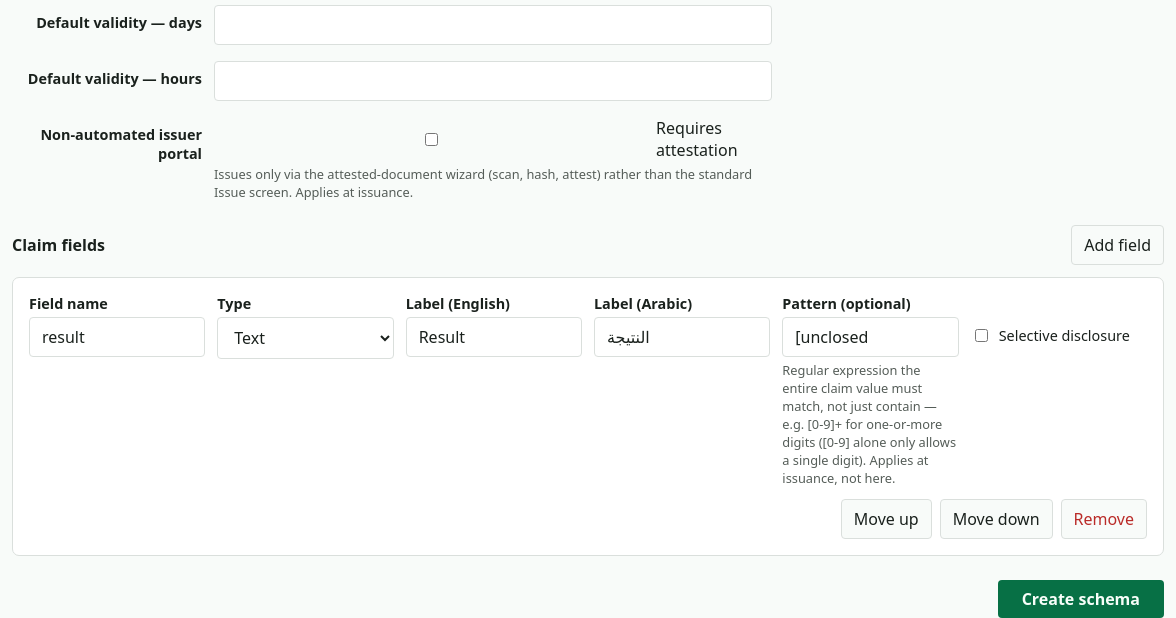
Test: SchemaBuilderForm › rejects an unparseable regex in a claim field pattern
(page scrolled)
What coordinates should you click on to do the following:
click the button "Create schema"
I would click on:
 (1081, 599)
Its box is [998,580,1164,617].
(page scrolled)
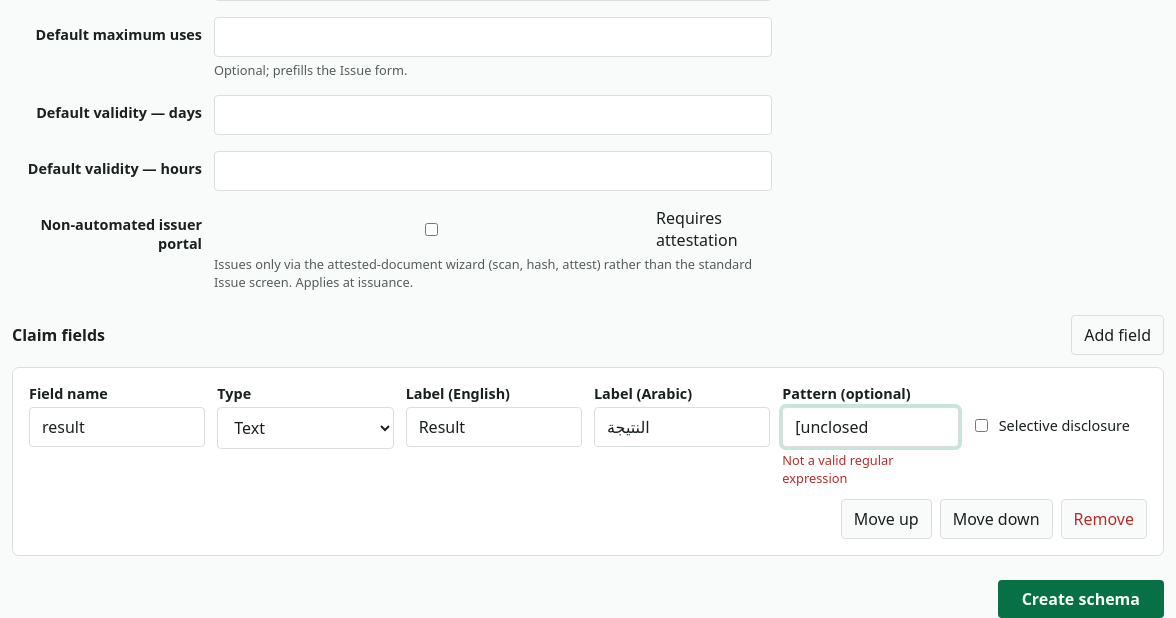
Result: the text "Not a valid regular expression" is shown at [782,451,894,487]
